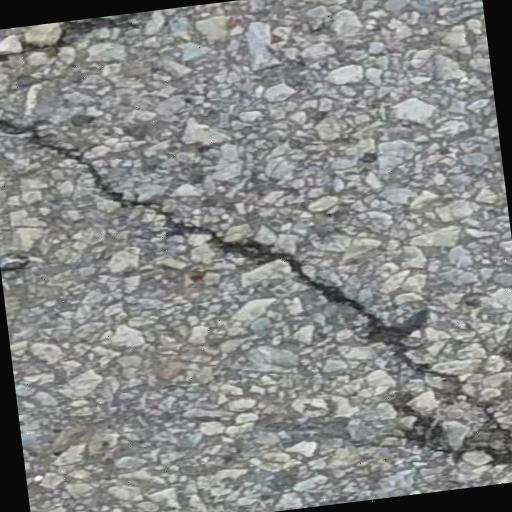spalling: (0, 113, 512, 477)
